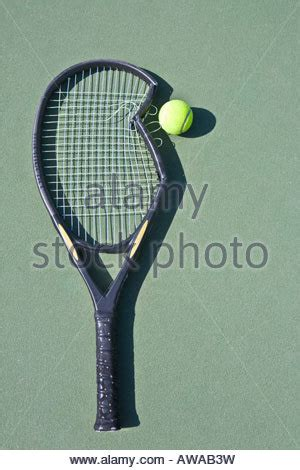tennis_ball: (158, 99, 193, 135)
